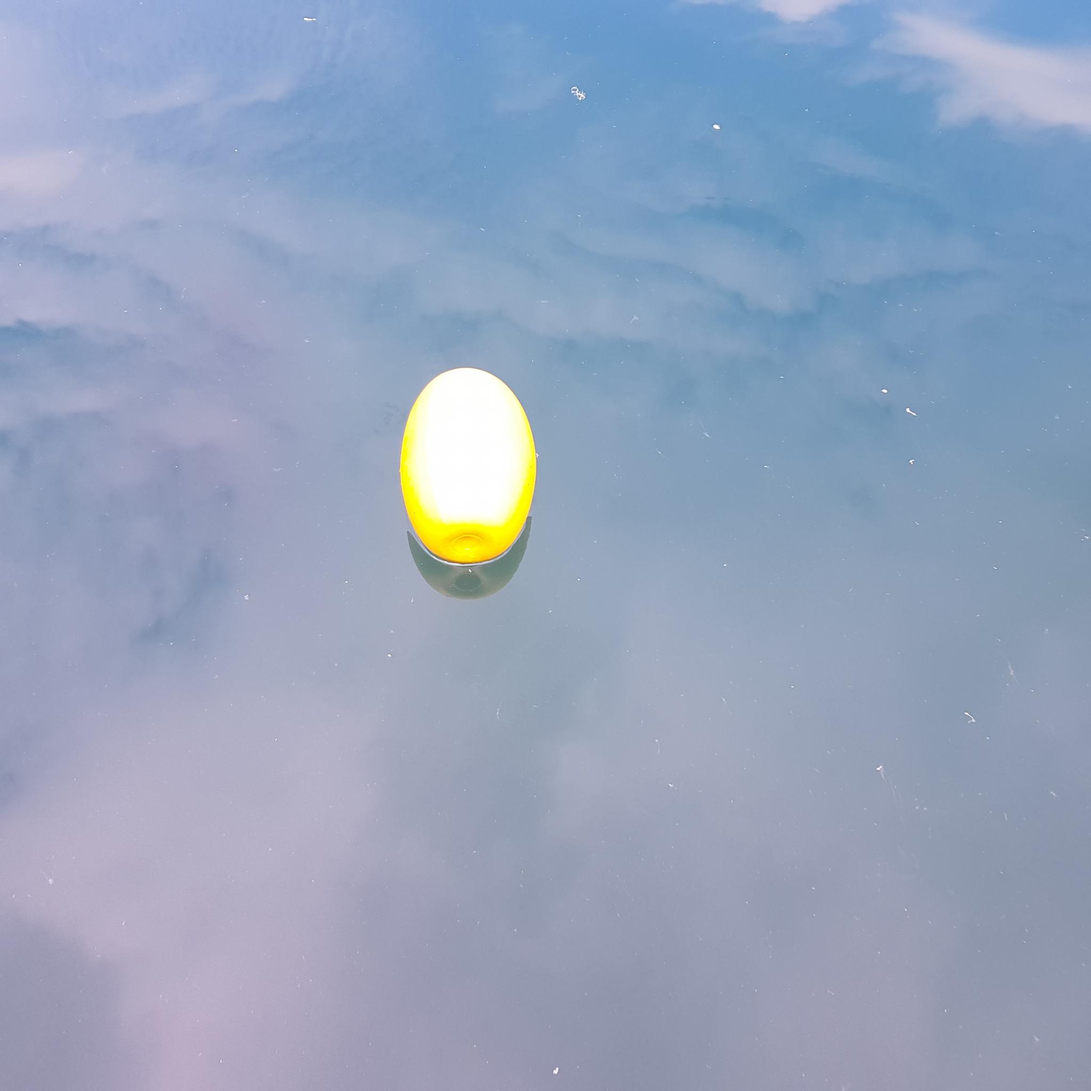sampah_terapung: (399, 367, 537, 565)
